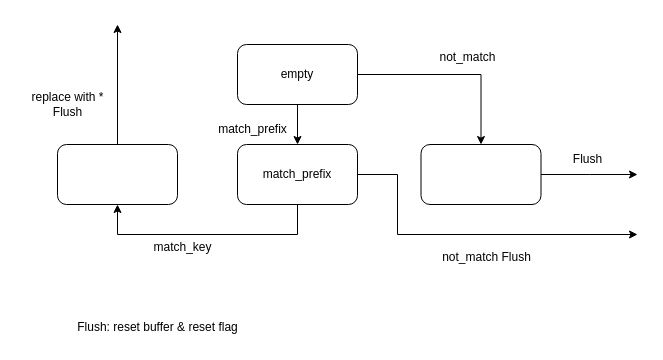
This 663x360 diagram has some shape labels left out. The centre of each missing label's shape, as x and y in pixels:
match: point (117, 174)
not_match(Buffered): point (480, 174)
